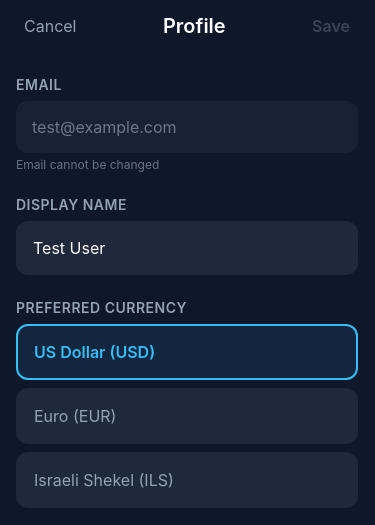
Test case: ProfileScreen › Validation › enables save button when currency changes
Click the element with test id "profile.currency.EUR": (187, 416) [16, 388, 358, 444]
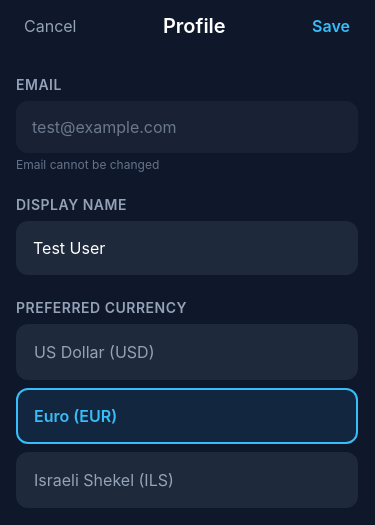
Expected: the element with test id "profile.saveButton" is enabled, [312, 16, 350, 36]
